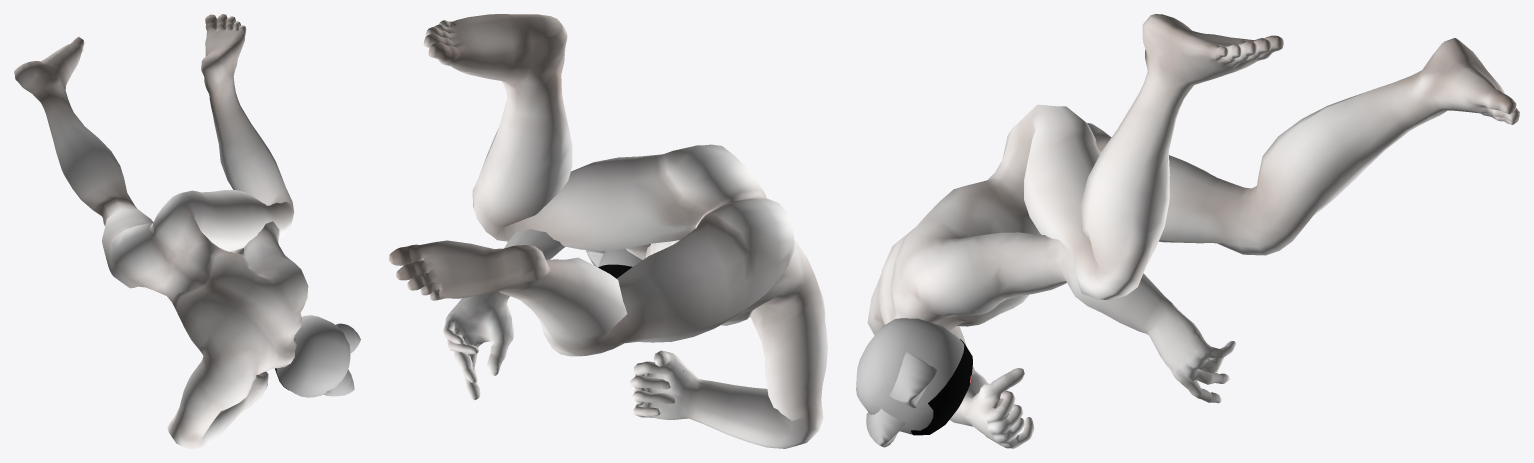
The picture shows the model from 3 angles, left to right: view 1: azimuth 30°, elevation 25°; view 2: azimuth 150°, elevation 25°; view 3: azimuth 270°, elevation 25°; orthographic projection. The views are drawn at different scales.
Visible parts, largest first — view 1: Muscle_Body, Cat_Head; view 2: Muscle_Body, Cat_Head; view 3: Muscle_Body, Cat_Head, ______?001.
Boxes of the visible parts, bbox=[...] form: Muscle_Body: bbox=[14, 14, 308, 448]; Cat_Head: bbox=[276, 315, 360, 397]; Muscle_Body: bbox=[389, 14, 827, 448]; Cat_Head: bbox=[585, 248, 642, 267]; Muscle_Body: bbox=[867, 14, 1519, 448]; Cat_Head: bbox=[856, 318, 964, 447]; ______?001: bbox=[911, 339, 972, 435].
Size of the model in its own units: 11.15 by 17.97 by 22.88.
